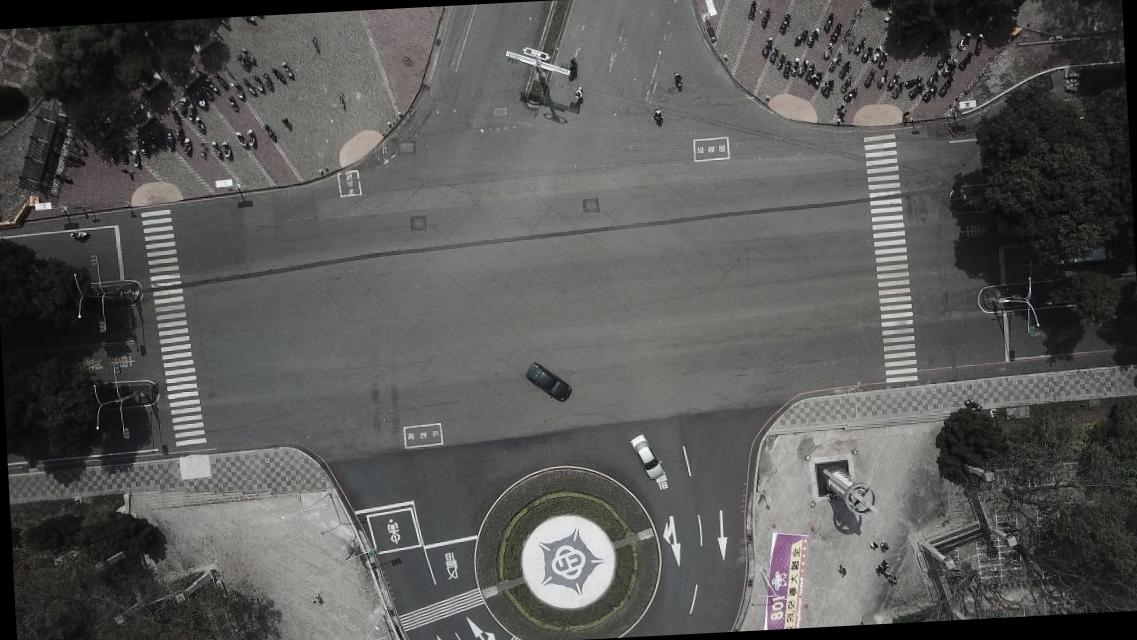vehicle: (523, 358, 573, 404), (1052, 234, 1118, 266), (626, 431, 665, 481)
